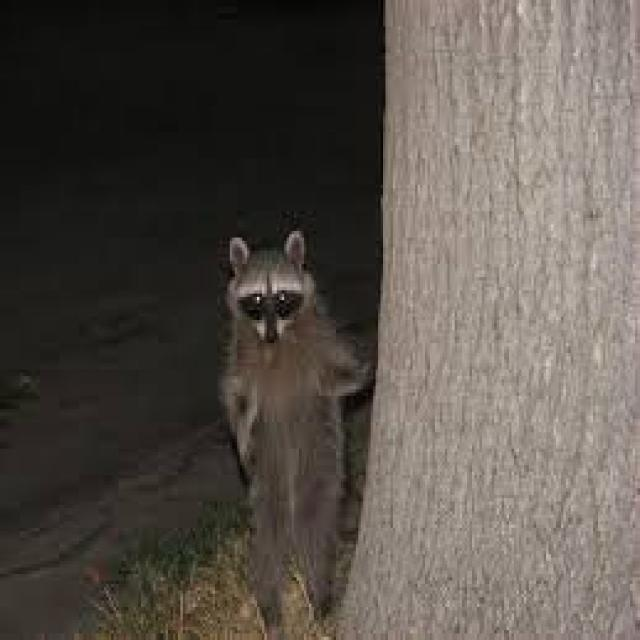Raccoon: (215, 222, 366, 623)
